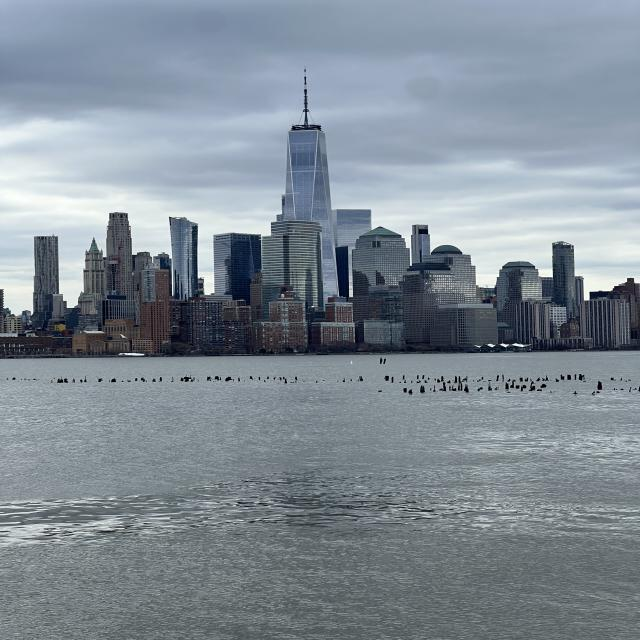WTC: (282, 65, 332, 228)
